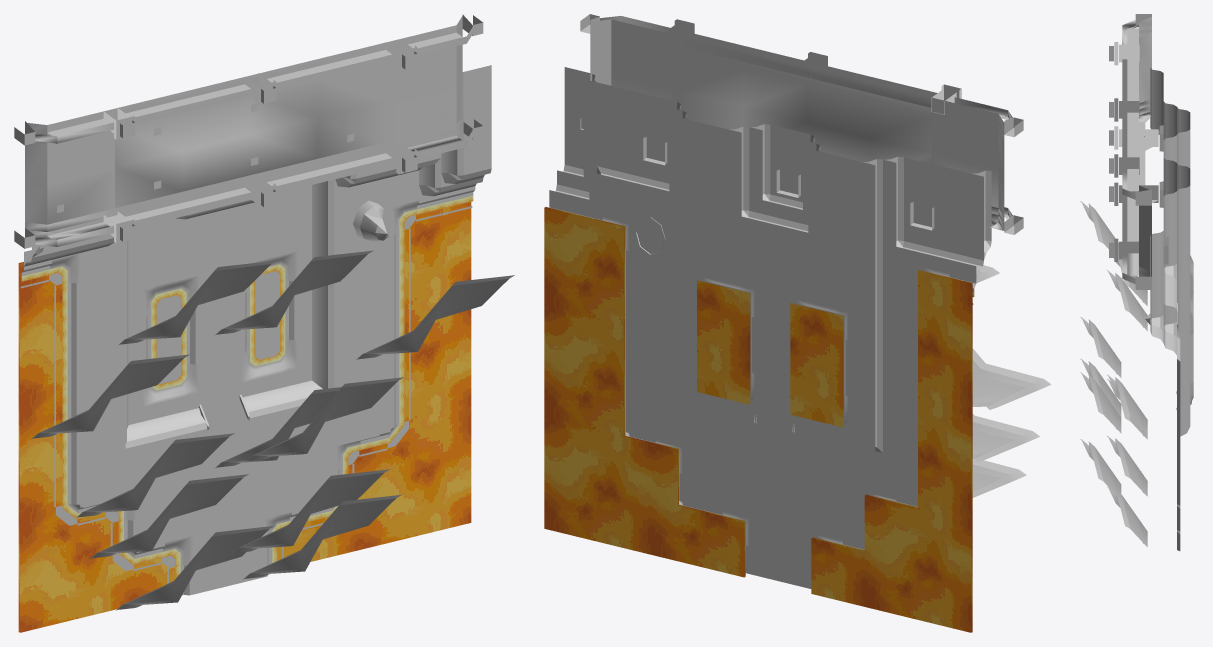
The model's file is Mount-Undara-1_01_02.obj.
3 renders of one model, left to right at view 1: azimuth 30°, elevation 25°; view 2: azimuth 150°, elevation 25°; view 3: azimuth 270°, elevation 25°, orthographic. The views are drawn at different scales.
Parts seen in each view (by area): view 1: map; view 2: map; view 3: map.
Part boxes in pixels (x1,y1,x2,y2): map: (14,14,514,632); map: (544,14,1050,632); map: (1080,14,1193,550).
Size of the model in its own units: 35.18 by 35.91 by 8.9.
